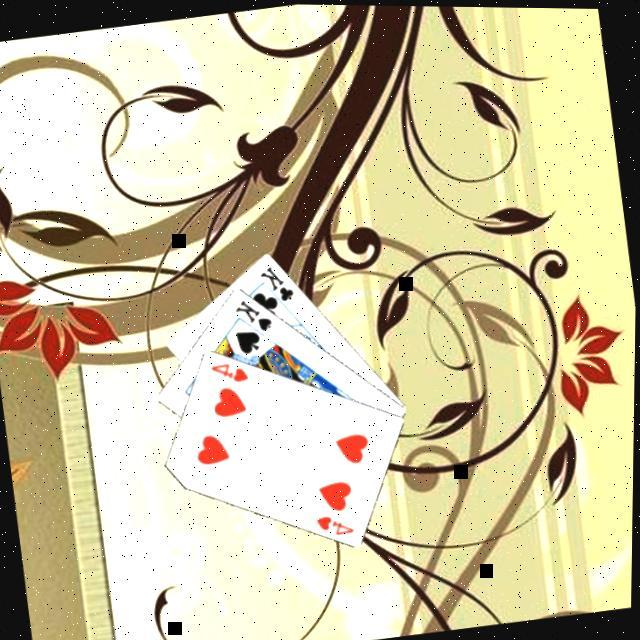4H: (313, 509, 359, 543), (206, 357, 252, 390)
KC: (254, 260, 300, 316)
KS: (230, 293, 277, 339)
